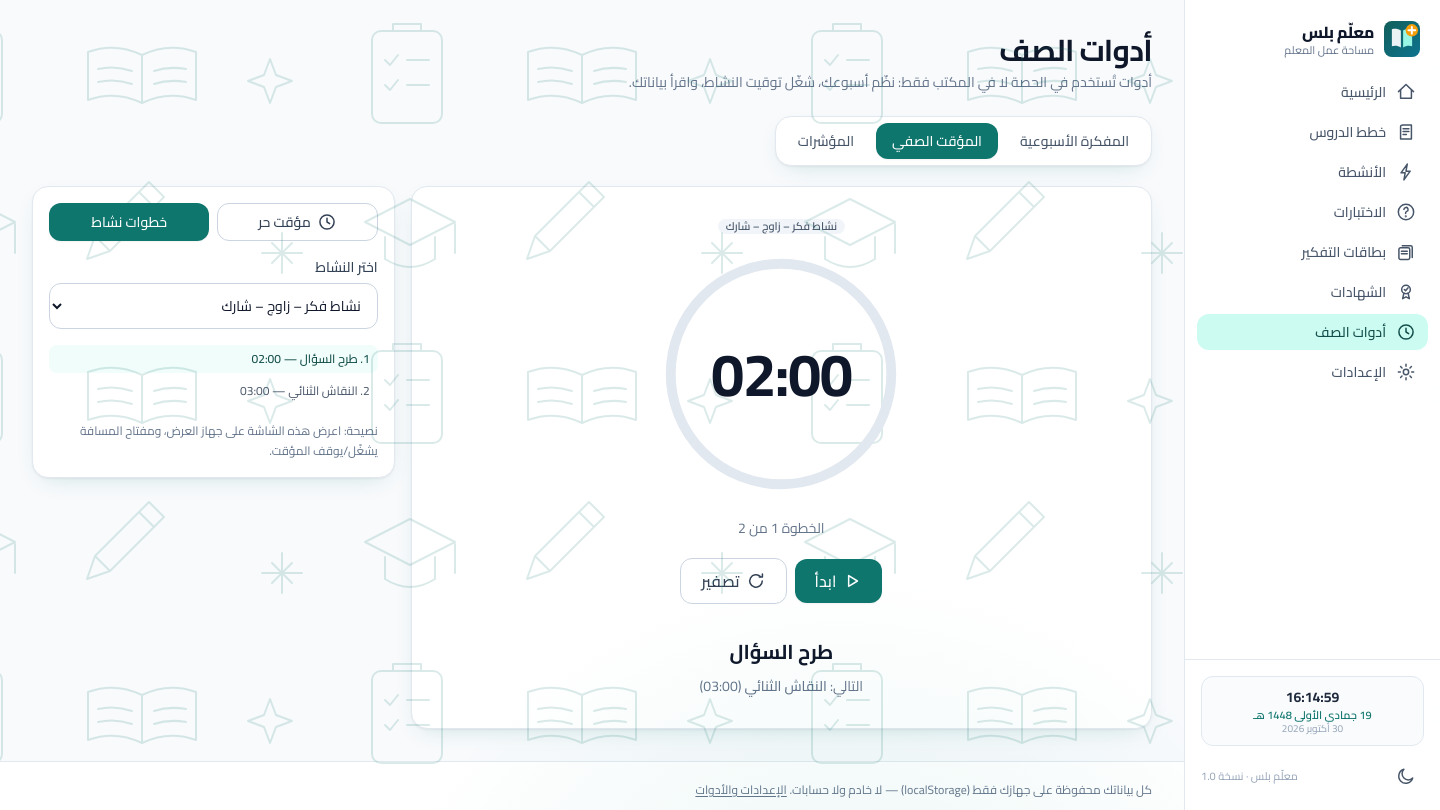
Test: المؤقت الصفي › خطوات نشاط: تُحمّل من رابط عميق وتتقدم خطوةً خطوة
Check: the text "نشاط فكر – زاوج – شارك" is shown, box [718, 219, 845, 234]
Check: the text "الخطوة 1 من 2" is shown, box [738, 518, 825, 538]
Click the button "ابدأ". click: [838, 581]
box: [795, 559, 882, 603]
Wait 120500 ms
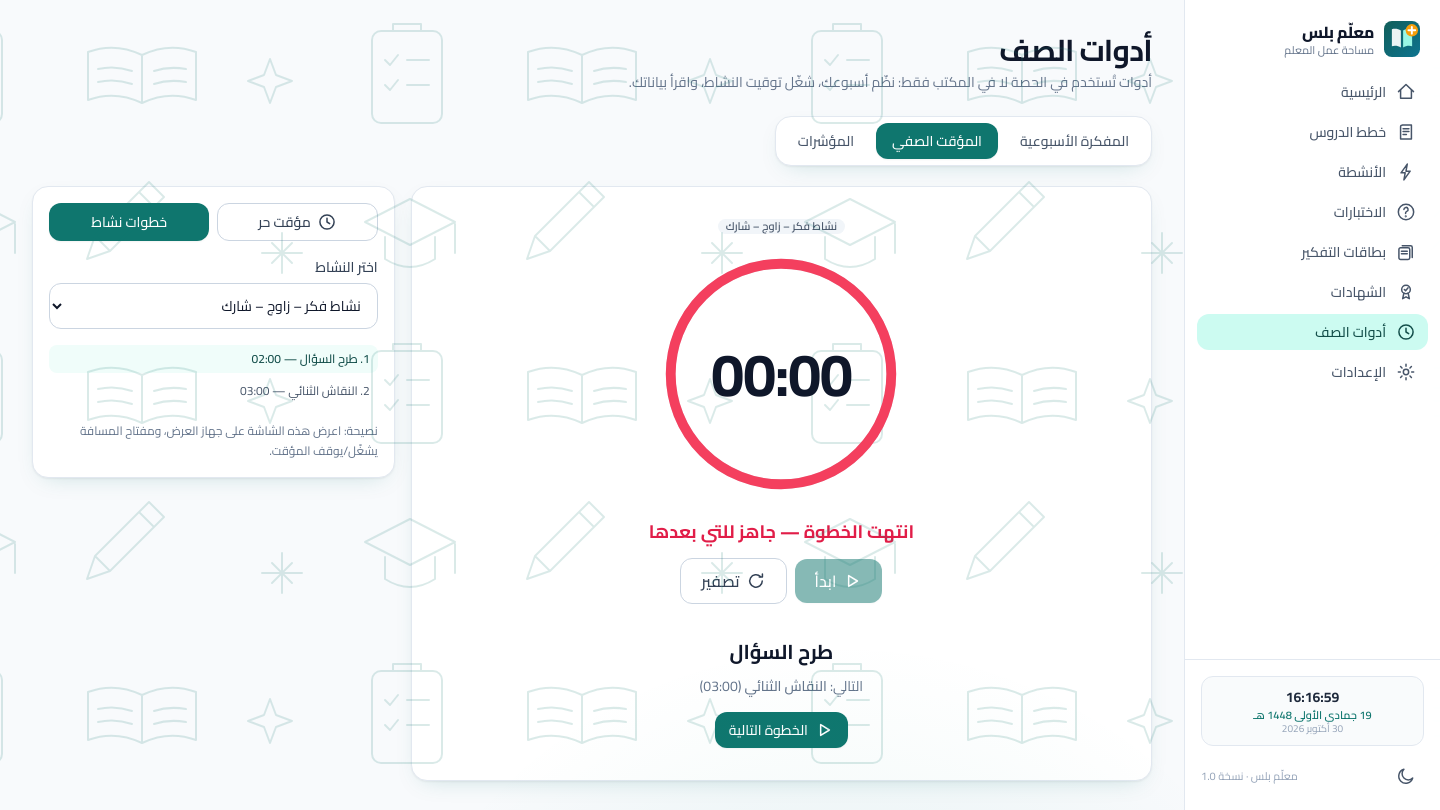
Check: the text "انتهت الخطوة — جاهز للتي بعدها" is shown, box [649, 518, 914, 546]
Click the button "الخطوة التالية". click: [781, 730]
box: [715, 712, 848, 748]
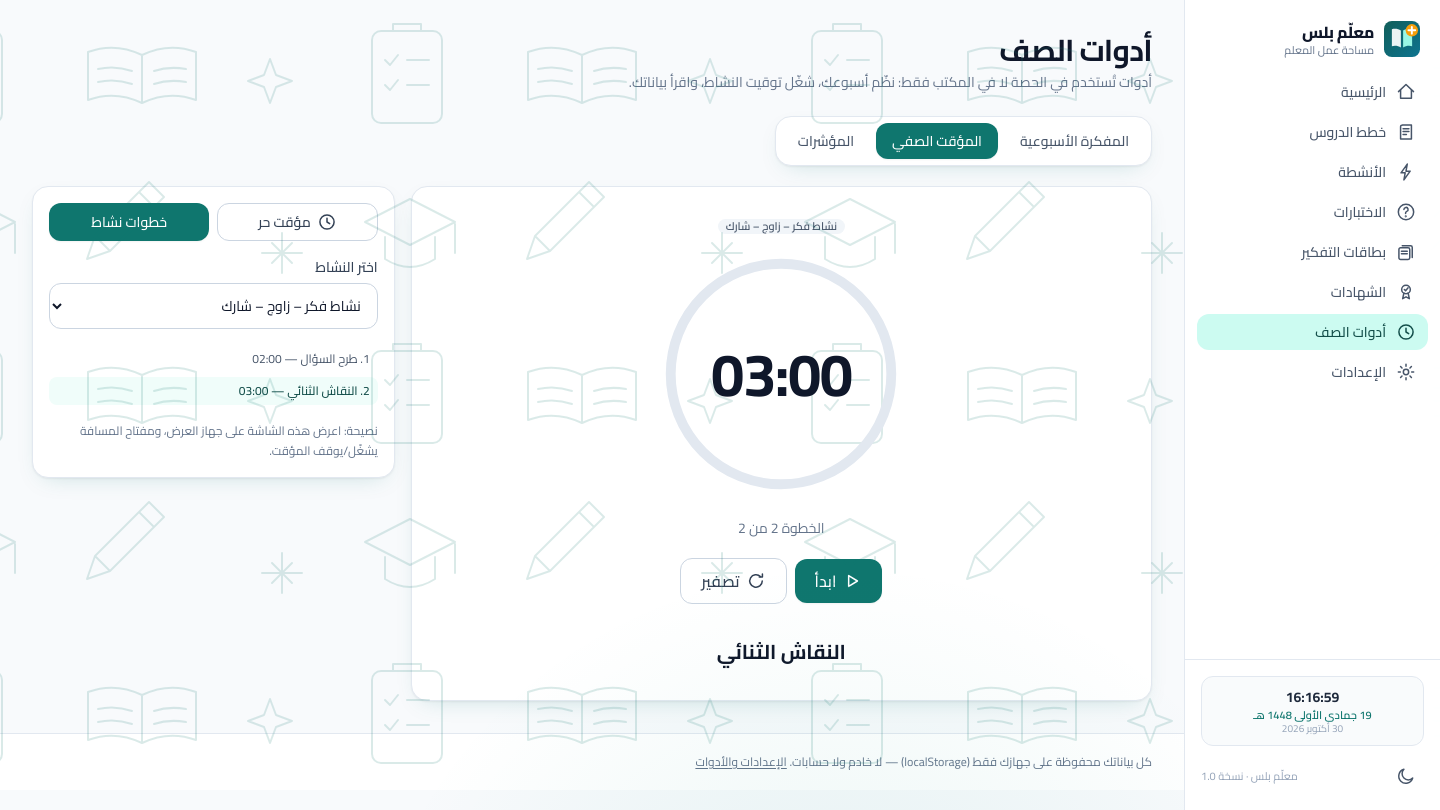
Check: the text "الخطوة 2 من 2" is shown, box [738, 518, 825, 538]
Check: the text "النقاش الثنائي" is shown, box [717, 633, 846, 670]
Check: the text "التالي:" is gone
